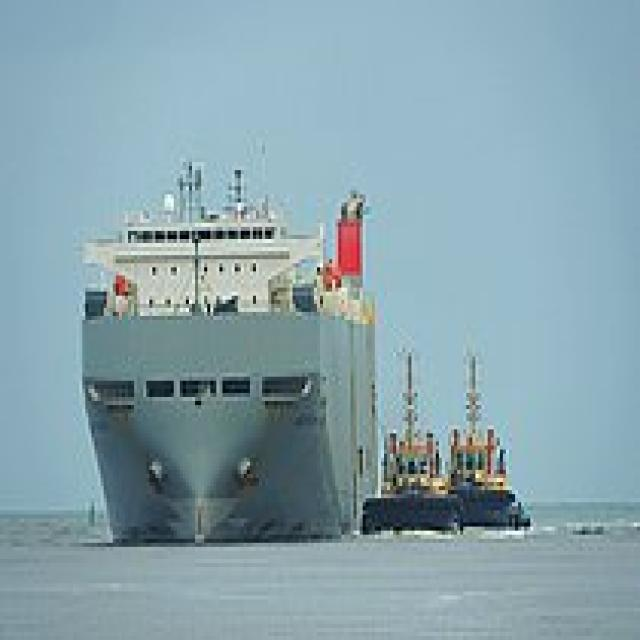Carrier: (73, 150, 378, 543)
